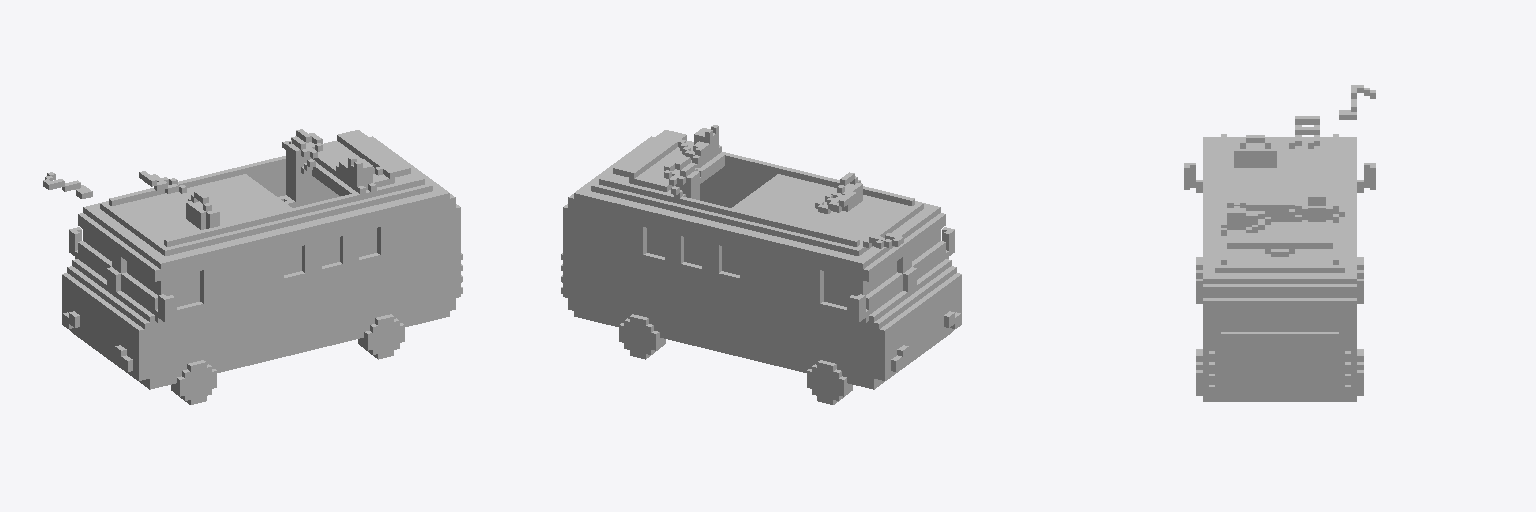
File: bus.obj
3 renders of one model, left to right at view 1: azimuth 30°, elevation 25°; view 2: azimuth 150°, elevation 25°; view 3: azimuth 270°, elevation 25°, orthographic.
Parts seen in each view (by area): view 1: object 1; view 2: object 1; view 3: object 1.
Boxes of the visible parts, x1,y1,x2,y2 form: object 1: [43, 129, 462, 404]; object 1: [561, 125, 961, 404]; object 1: [1184, 85, 1375, 401].
Bounding box in the file's own units: 6.4 × 3.3 × 3.1.